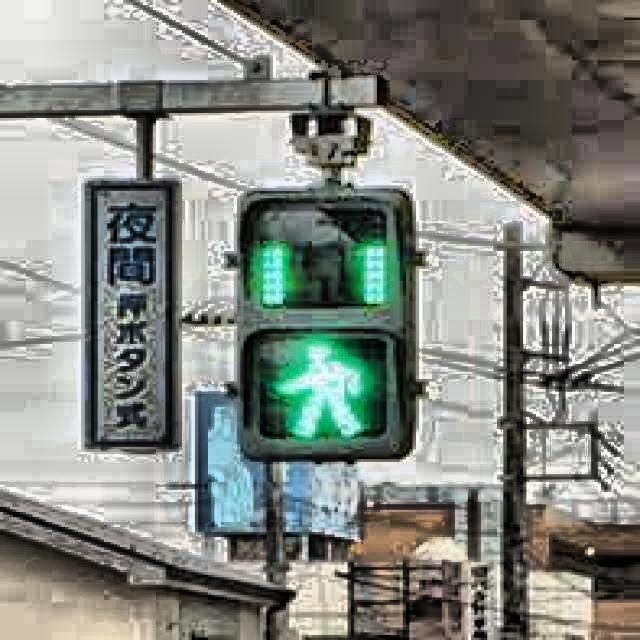semaforo pedestre: (168, 97, 498, 530)
